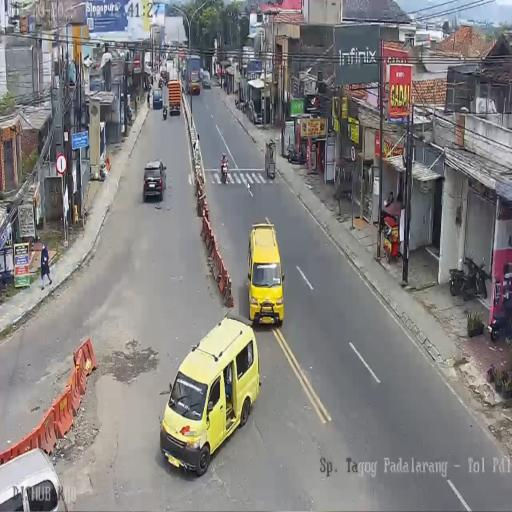car: (160, 316, 260, 476), (0, 447, 68, 510), (248, 222, 285, 327), (143, 159, 166, 201), (152, 88, 163, 110), (201, 70, 211, 89), (198, 70, 203, 81)
motorcycle: (448, 254, 489, 301), (286, 141, 304, 165), (220, 156, 229, 184), (162, 105, 168, 120), (151, 73, 154, 85)
truck: (185, 56, 202, 96), (167, 79, 181, 116), (144, 50, 153, 78), (160, 68, 169, 85)
